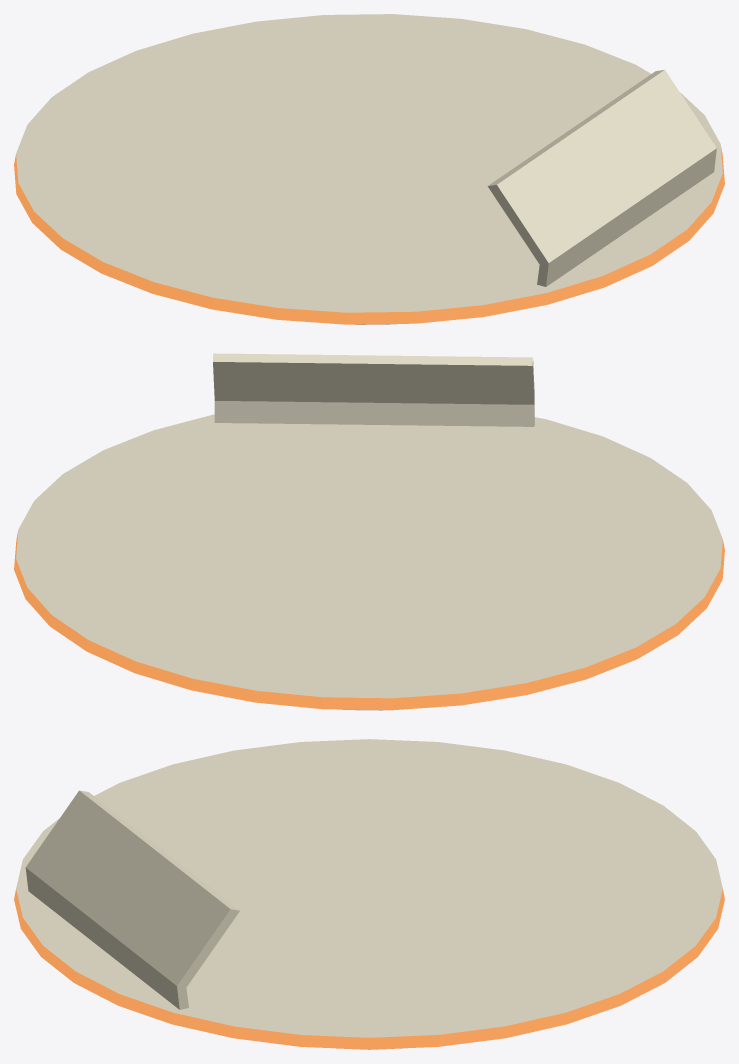
The model's file is Podest_Circle.glb.
3 views of the same model, one above another, from view 1: azimuth 30°, elevation 25°; view 2: azimuth 150°, elevation 25°; view 3: azimuth 270°, elevation 25° (orthographic).
Visible parts, largest first — view 1: Podest_Circle, Sign_Title; view 2: Podest_Circle, Sign_Title; view 3: Podest_Circle, Sign_Title.
Part boxes in pixels (box(x1,y1,x2,y2)): Podest_Circle: box(14, 14, 724, 324); Sign_Title: box(487, 70, 716, 286); Podest_Circle: box(14, 414, 724, 710); Sign_Title: box(213, 353, 534, 426); Podest_Circle: box(14, 739, 724, 1049); Sign_Title: box(25, 790, 239, 1009).
Size of the model in its own units: 2.9 by 0.7676 by 2.9.
